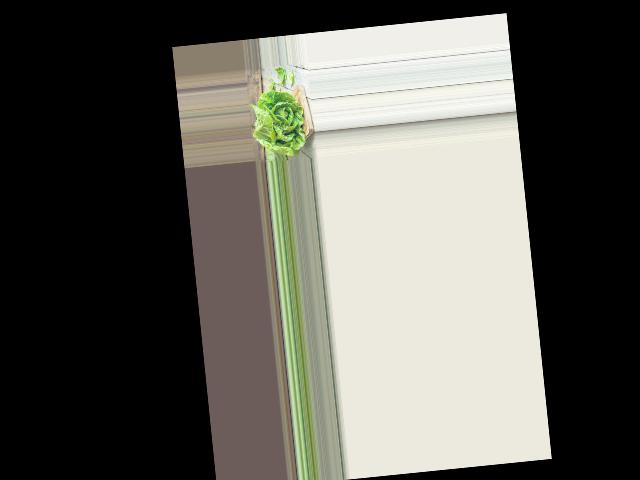lettuce: (250, 90, 310, 160)
